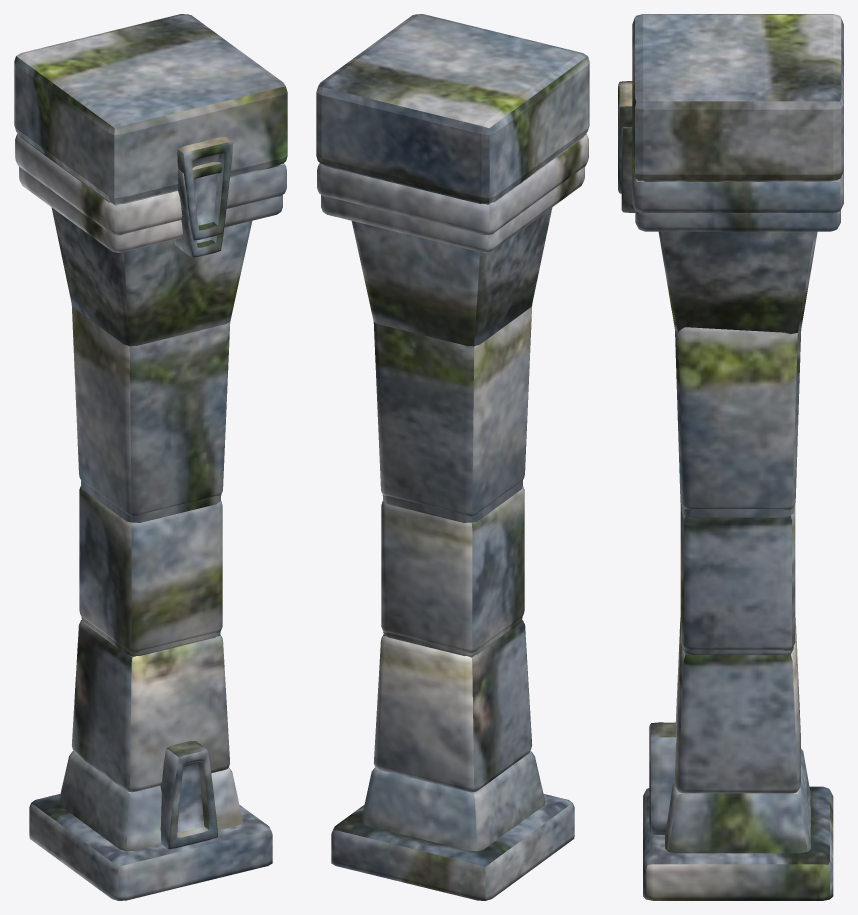
Rendered from dungeonPillar.obj.
3 renders of one model, left to right at view 1: azimuth 30°, elevation 25°; view 2: azimuth 150°, elevation 25°; view 3: azimuth 270°, elevation 25°, orthographic. The views are drawn at different scales.
Parts seen in each view (by area): view 1: MESH_StonePillar_0010.001, MESH_StonePillar_0004.001, MESH_StonePillar_0002.001, MESH_StonePillar_0003.001, MESH_StonePillar_0005, MESH_StonePillar_0000.001, MESH_StonePillar_0001.001, MESH_StonePillar_0006.001, MESH_StonePillar_0008.001, MESH_StonePillar_0006, MESH_StonePillar_0007.001, MESH_StonePillar_0007 (+2 smaller); view 2: MESH_StonePillar_0010.001, MESH_StonePillar_0004.001, MESH_StonePillar_0002.001, MESH_StonePillar_0003.001, MESH_StonePillar_0005, MESH_StonePillar_0000.001, MESH_StonePillar_0001.001, MESH_StonePillar_0006.001, MESH_StonePillar_0006, MESH_StonePillar_0004, MESH_StonePillar_0003; view 3: MESH_StonePillar_0010.001, MESH_StonePillar_0004.001, MESH_StonePillar_0002.001, MESH_StonePillar_0003.001, MESH_StonePillar_0005, MESH_StonePillar_0000.001, MESH_StonePillar_0001.001, MESH_StonePillar_0006.001, MESH_StonePillar_0006, MESH_StonePillar_0008.001, MESH_StonePillar_0007, MESH_StonePillar_0004 (+2 smaller).
Boxes of the visible parts, box(x1,y1,x2,y2) form: MESH_StonePillar_0010.001: box(14, 14, 287, 203); MESH_StonePillar_0004.001: box(71, 304, 230, 516); MESH_StonePillar_0002.001: box(72, 620, 229, 792); MESH_StonePillar_0003.001: box(79, 486, 222, 653); MESH_StonePillar_0005: box(51, 207, 252, 346); MESH_StonePillar_0000.001: box(29, 794, 272, 900); MESH_StonePillar_0001.001: box(58, 751, 243, 851); MESH_StonePillar_0006.001: box(15, 134, 286, 235); MESH_StonePillar_0008.001: box(160, 741, 217, 849); MESH_StonePillar_0006: box(19, 167, 282, 252); MESH_StonePillar_0007.001: box(177, 136, 233, 240); MESH_StonePillar_0007: box(174, 162, 224, 257); MESH_StonePillar_0010.001: box(316, 14, 589, 203); MESH_StonePillar_0004.001: box(373, 304, 532, 516); MESH_StonePillar_0002.001: box(374, 620, 531, 792); MESH_StonePillar_0003.001: box(381, 486, 524, 653); MESH_StonePillar_0005: box(351, 207, 552, 346); MESH_StonePillar_0000.001: box(331, 794, 574, 900); MESH_StonePillar_0001.001: box(360, 751, 545, 851); MESH_StonePillar_0006.001: box(317, 134, 588, 235); MESH_StonePillar_0006: box(321, 167, 584, 252); MESH_StonePillar_0004: box(382, 480, 522, 522); MESH_StonePillar_0003: box(383, 617, 522, 656); MESH_StonePillar_0010.001: box(632, 14, 843, 180); MESH_StonePillar_0004.001: box(675, 327, 801, 509); MESH_StonePillar_0002.001: box(675, 617, 800, 793); MESH_StonePillar_0003.001: box(680, 503, 795, 650); MESH_StonePillar_0005: box(658, 231, 817, 333); MESH_StonePillar_0000.001: box(643, 786, 833, 900); MESH_StonePillar_0001.001: box(665, 748, 810, 853); MESH_StonePillar_0006.001: box(632, 170, 843, 213); MESH_StonePillar_0006: box(635, 210, 840, 231); MESH_StonePillar_0008.001: box(649, 722, 676, 834); MESH_StonePillar_0007: box(621, 127, 635, 212); MESH_StonePillar_0004: box(681, 505, 794, 517).
Bounding box in the file's own units: 0.464 × 1.95 × 0.495.
2 materials, 2 textured.
